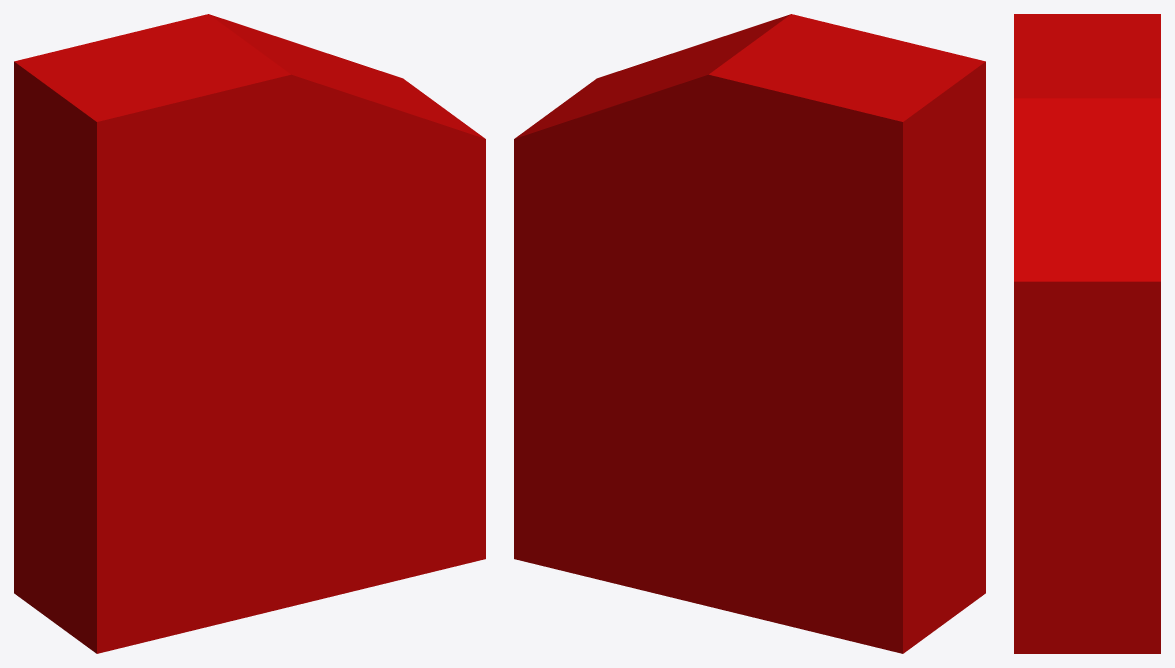
File: Gass.fbx
The picture shows the model from 3 angles, left to right: view 1: azimuth 30°, elevation 25°; view 2: azimuth 150°, elevation 25°; view 3: azimuth 270°, elevation 25°; orthographic projection. The views are drawn at different scales.
Parts seen in each view (by area): view 1: Cube; view 2: Cube; view 3: Cube.
Boxes of the visible parts, bbox=[...] form: Cube: bbox=[14, 14, 485, 653]; Cube: bbox=[514, 14, 985, 653]; Cube: bbox=[1014, 14, 1160, 653].
Bounding box in the file's own units: 154 × 202 × 56.9.
